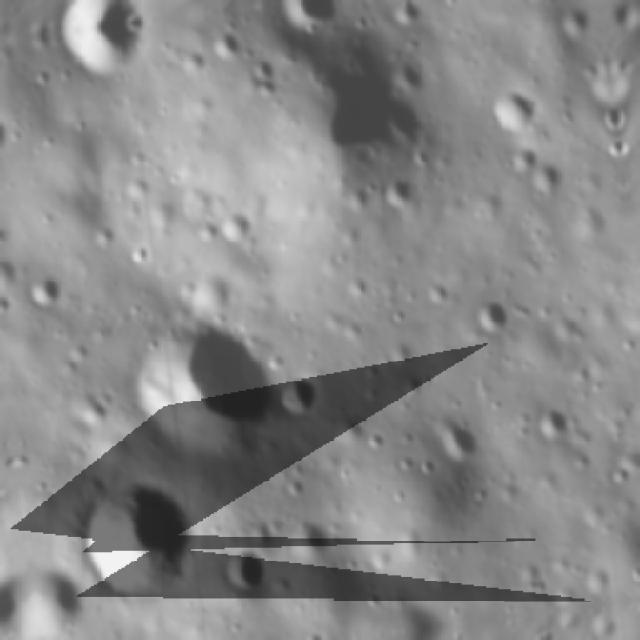crater: (117, 302, 291, 482), (271, 22, 446, 173), (64, 465, 208, 612), (47, 19, 162, 87), (418, 400, 493, 475), (478, 77, 544, 146), (216, 536, 278, 604), (272, 365, 330, 429), (372, 167, 425, 221), (575, 42, 614, 115), (275, 0, 344, 38), (463, 294, 519, 340), (21, 262, 67, 313), (531, 401, 572, 450), (204, 24, 251, 65), (214, 206, 254, 246), (527, 158, 565, 199), (386, 0, 428, 32), (509, 145, 542, 178), (0, 102, 18, 159), (343, 272, 375, 302), (246, 52, 277, 82), (424, 278, 451, 311), (252, 74, 280, 104), (511, 0, 568, 12), (195, 220, 219, 248), (599, 106, 618, 137), (604, 136, 622, 166)
